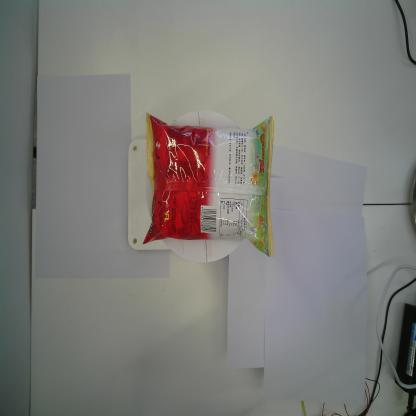Puffed Food: (142, 112, 275, 258)
